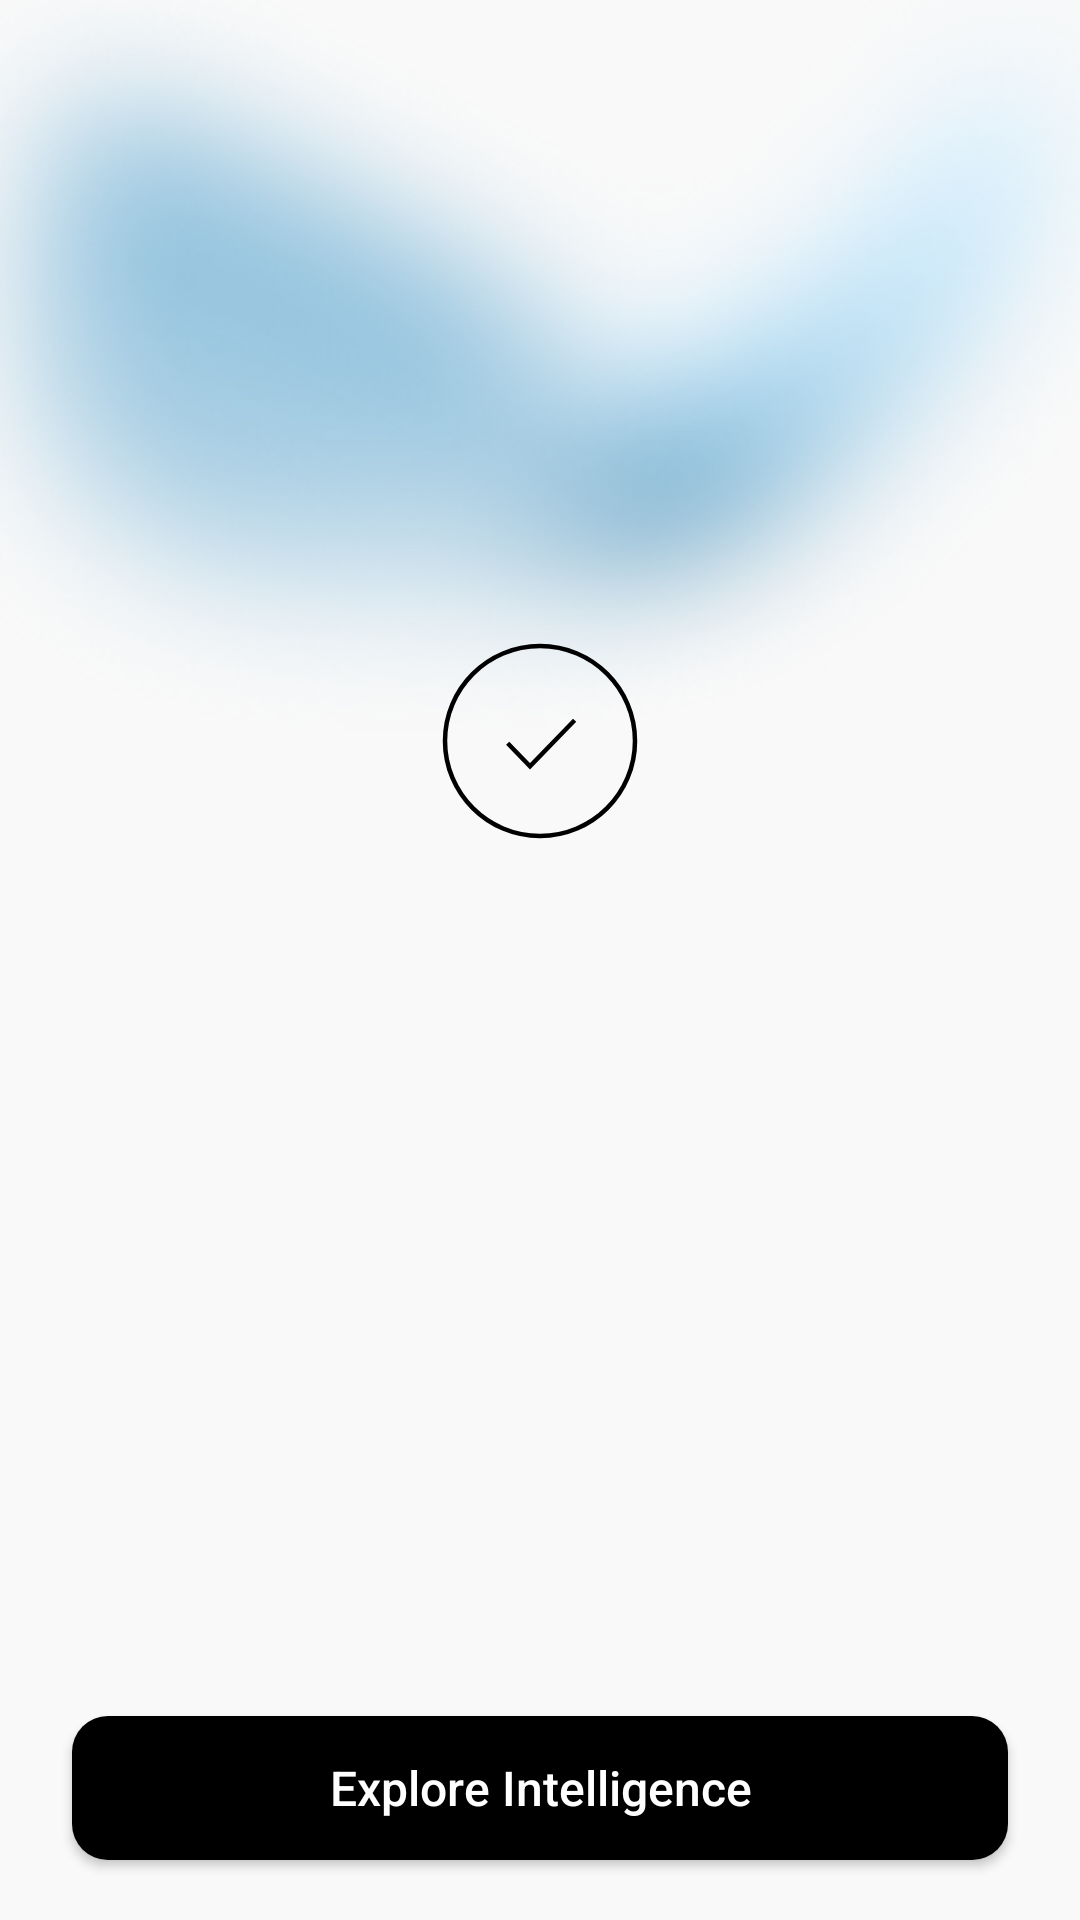

Screen size 1080x1920. Icon name, then its center in pixels as point (x, y):
Success: point (540, 730)
